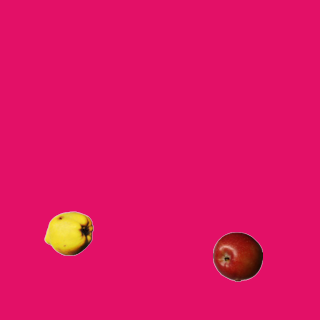Apple Braeburn: (212, 231, 262, 281)
Quince: (43, 208, 93, 258)
